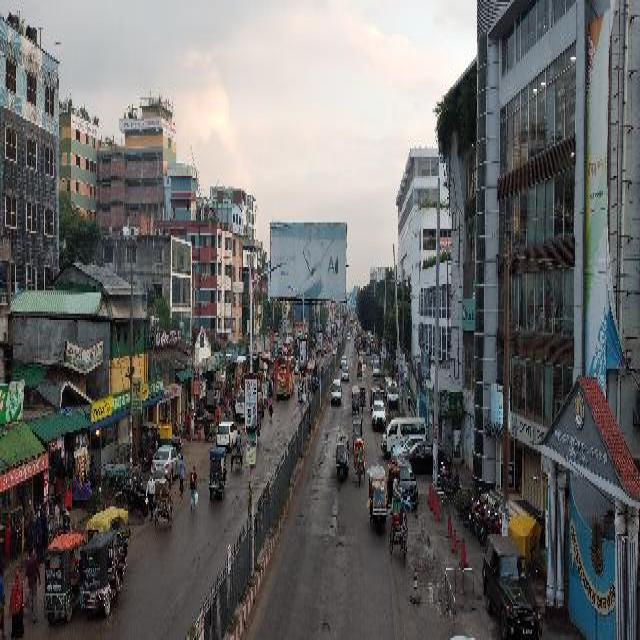bike: (463, 497, 490, 524), (471, 500, 497, 526), (457, 488, 481, 516), (128, 483, 148, 513), (15, 518, 31, 554), (478, 519, 504, 540), (106, 486, 128, 507), (142, 447, 154, 468), (438, 462, 452, 479)
vehicle: (485, 529, 542, 635), (84, 528, 126, 615), (45, 529, 84, 618), (86, 506, 132, 549), (400, 440, 445, 476), (383, 413, 428, 447), (369, 462, 388, 530), (391, 494, 409, 562), (152, 443, 181, 481), (154, 477, 174, 528), (391, 433, 427, 461), (398, 455, 418, 503), (211, 444, 228, 497), (275, 353, 295, 395), (336, 428, 350, 479), (371, 383, 387, 426), (217, 420, 237, 449), (388, 462, 400, 508), (354, 438, 365, 482), (389, 378, 400, 408), (332, 378, 343, 404), (235, 389, 245, 416), (352, 411, 362, 437), (353, 385, 360, 410), (360, 383, 366, 407), (342, 365, 350, 380), (373, 357, 380, 374), (259, 390, 263, 419), (362, 328, 368, 339), (358, 360, 362, 375), (341, 355, 347, 363), (350, 317, 354, 329), (297, 359, 300, 372), (367, 344, 371, 353), (333, 344, 337, 353), (364, 341, 367, 352), (347, 332, 351, 340), (357, 340, 360, 349), (354, 338, 356, 346)
